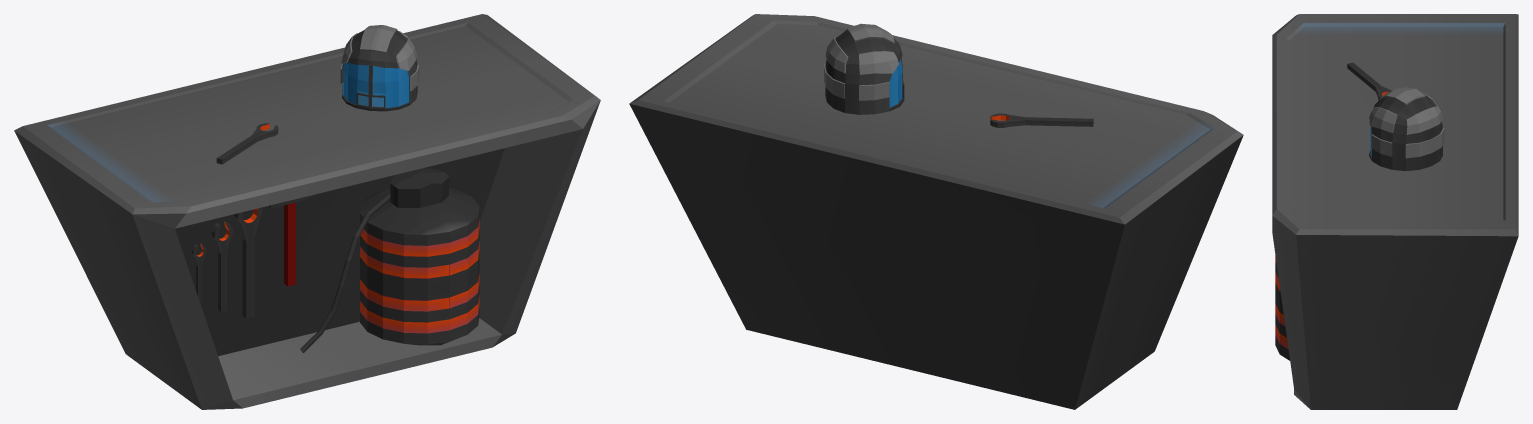
The model's file is etabli.fbx.
3 renders of one model, left to right at view 1: azimuth 30°, elevation 25°; view 2: azimuth 150°, elevation 25°; view 3: azimuth 270°, elevation 25°, orthographic. The views are drawn at different scales.
Visible parts, largest first — view 1: etabli; view 2: etabli; view 3: etabli.
Part boxes in pixels (x1,y1,x2,y2): etabli: (14, 14, 600, 409); etabli: (629, 14, 1243, 409); etabli: (1272, 14, 1518, 409).
Bounding box in the file's own units: 199 × 116 × 93.29.
